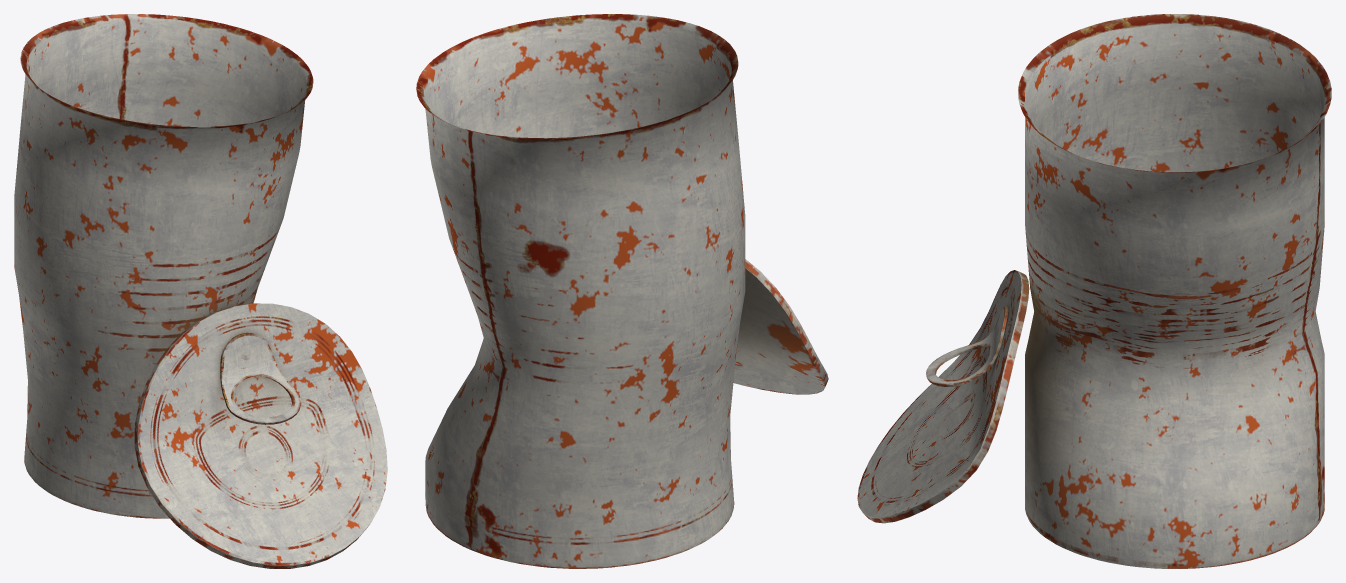
File: tin_can__trash.glb
3 renders of one model, left to right at view 1: azimuth 30°, elevation 25°; view 2: azimuth 150°, elevation 25°; view 3: azimuth 270°, elevation 25°, orthographic. The views are drawn at different scales.
Visible parts, largest first — view 1: krishka_lp.; view 2: krishka_lp.; view 3: krishka_lp..
Part boxes in pixels (x1=…): krishka_lp.: x1=14, y1=14, x2=387, y2=568; krishka_lp.: x1=416, y1=14, x2=828, y2=568; krishka_lp.: x1=857, y1=14, x2=1331, y2=568.
Size of the model in its own units: 209 by 309 by 311.
1 material, 1 textured.
